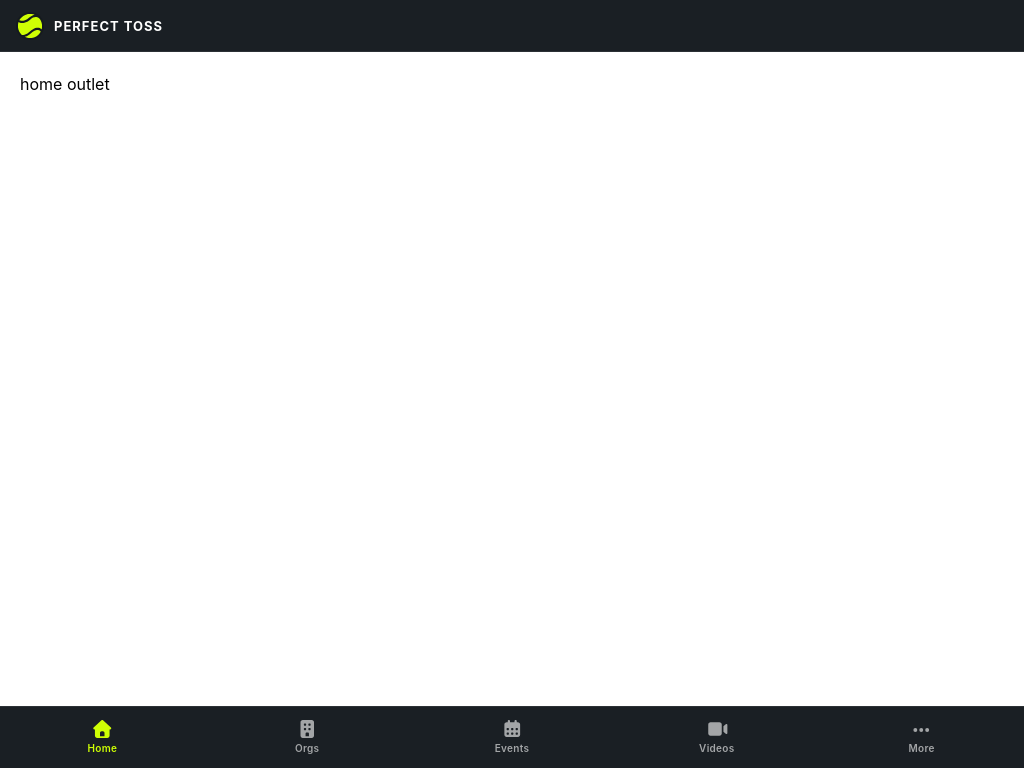
Scenario: mobile shell › closes the sheet when a tab navigates
The image size is (1024, 768).
Click the button "More": (922, 738) top-left (819, 707), bottom-right (1023, 767)
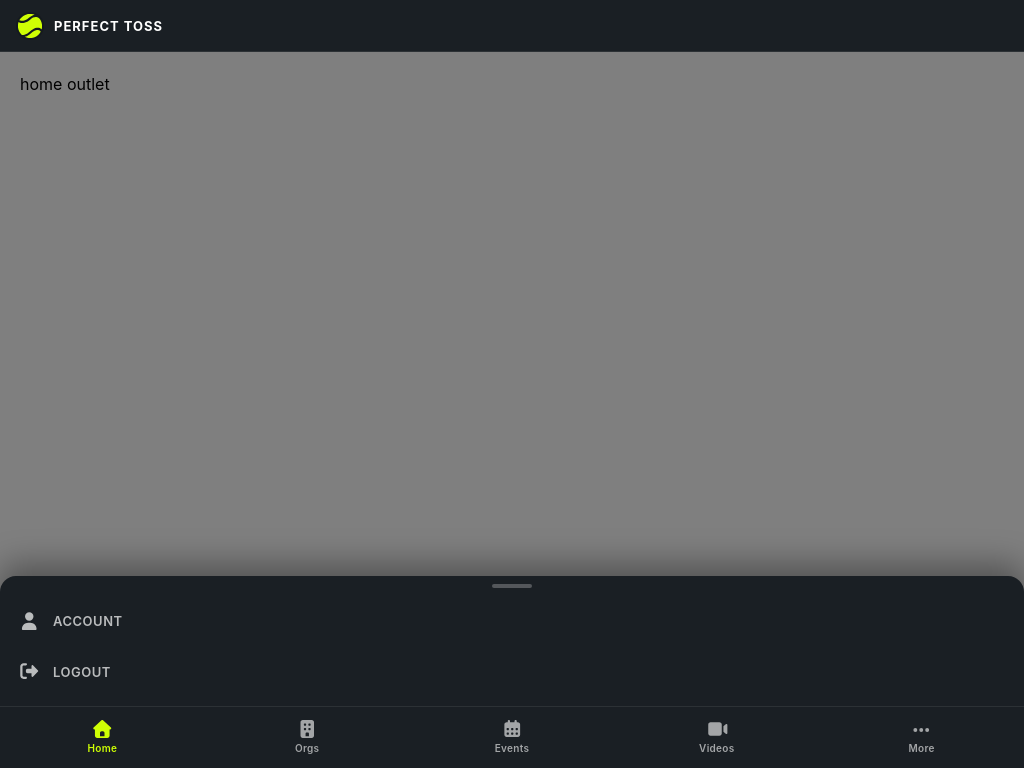
Click the link "Videos": (717, 736) top-left (699, 720), bottom-right (734, 754)
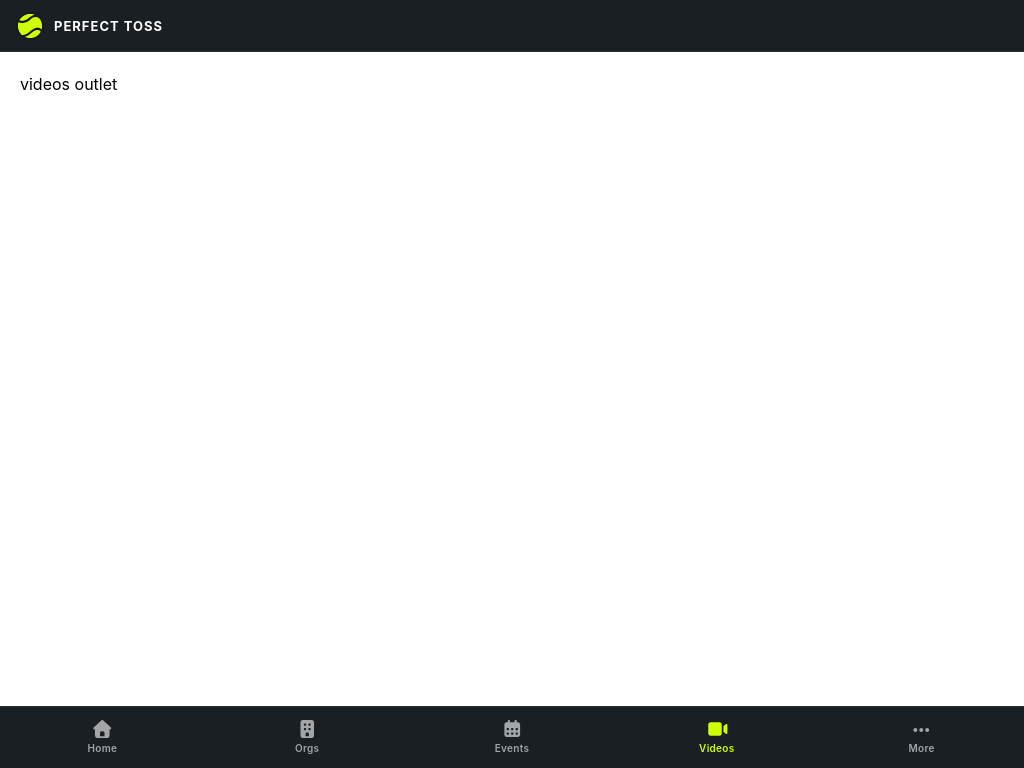
Result: the text "videos outlet" is shown at top-left (20, 74), bottom-right (117, 94)
